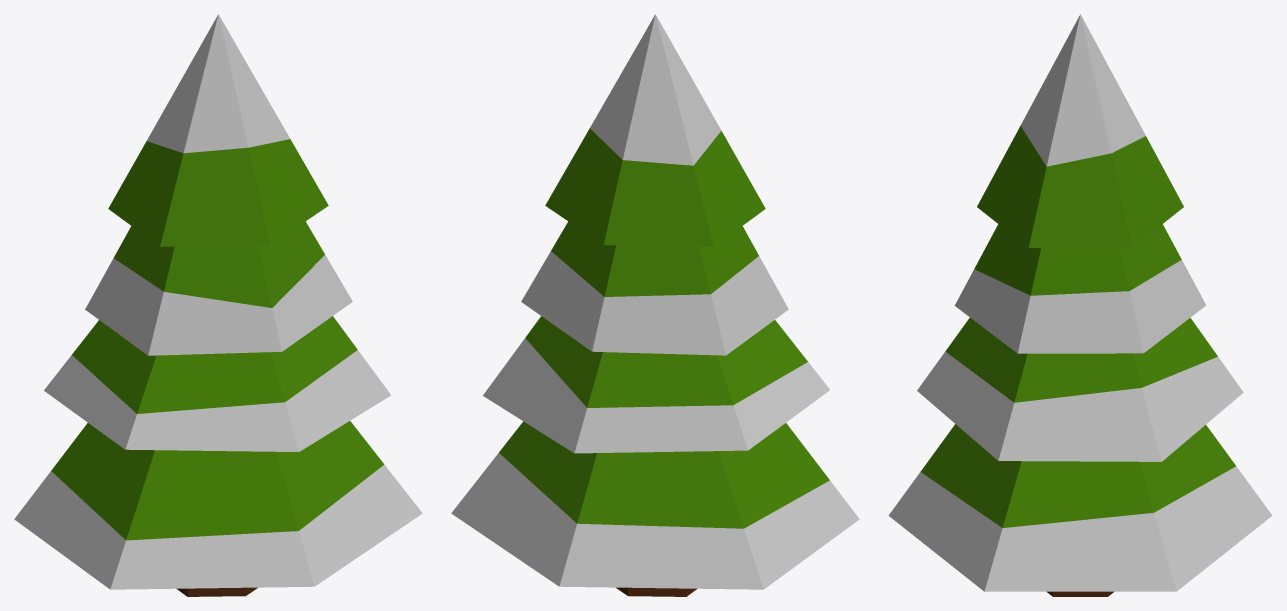
File: PineTree3PartialSnow.fbx
3 renders of one model, left to right at view 1: azimuth 30°, elevation 25°; view 2: azimuth 150°, elevation 25°; view 3: azimuth 270°, elevation 25°, orthographic.
Parts seen in each view (by area): view 1: Cylinder; view 2: Cylinder; view 3: Cylinder.
Boxes of the visible parts, left/top/right/bottom form: Cylinder: left=14, top=14, right=422, bottom=596; Cylinder: left=451, top=14, right=859, bottom=596; Cylinder: left=888, top=14, right=1272, bottom=596.
Bounding box in the file's own units: 3.94 × 6.77 × 4.2.
